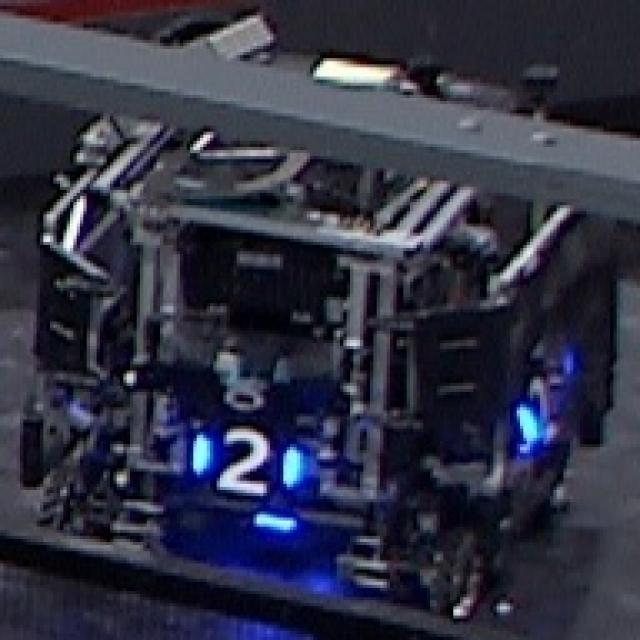B2: (197, 423, 303, 499), (517, 374, 570, 456)
